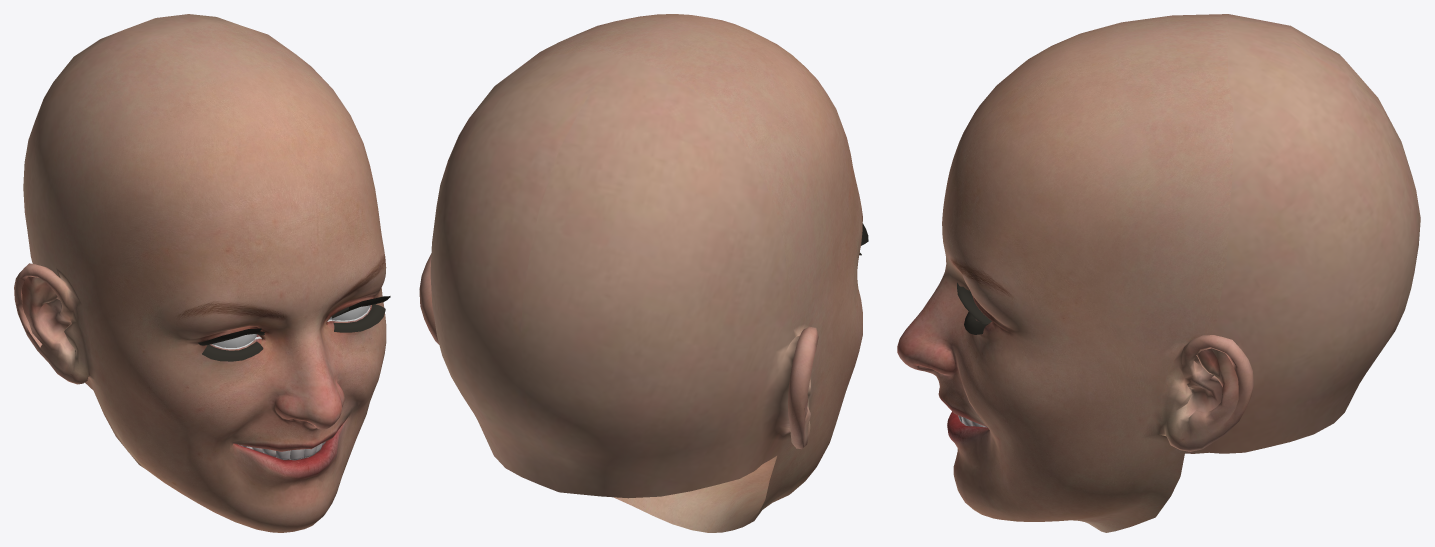
File: Fem.obj
The picture shows the model from 3 angles, left to right: view 1: azimuth 30°, elevation 25°; view 2: azimuth 150°, elevation 25°; view 3: azimuth 270°, elevation 25°; orthographic projection. The views are drawn at different scales.
Parts seen in each view (by area): view 1: head, upperJaw; view 2: head; view 3: head.
Part boxes in pixels (x1,y1,x2,y2): head: [14, 14, 390, 532]; upperJaw: [242, 441, 325, 460]; head: [419, 14, 868, 532]; head: [897, 14, 1420, 532].
Size of the model in its own units: 18.04 by 23.22 by 22.3.
